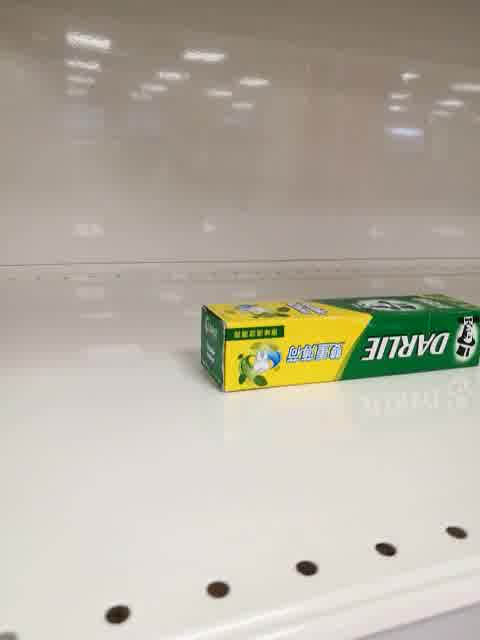toothpaste: (202, 294, 480, 395)
